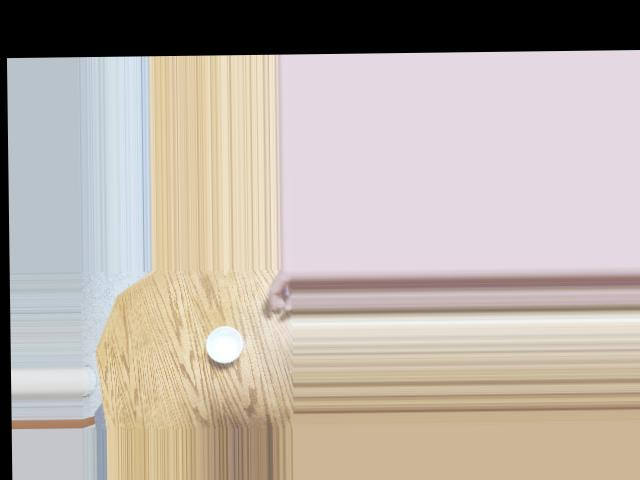cotage: (202, 322, 246, 363)
